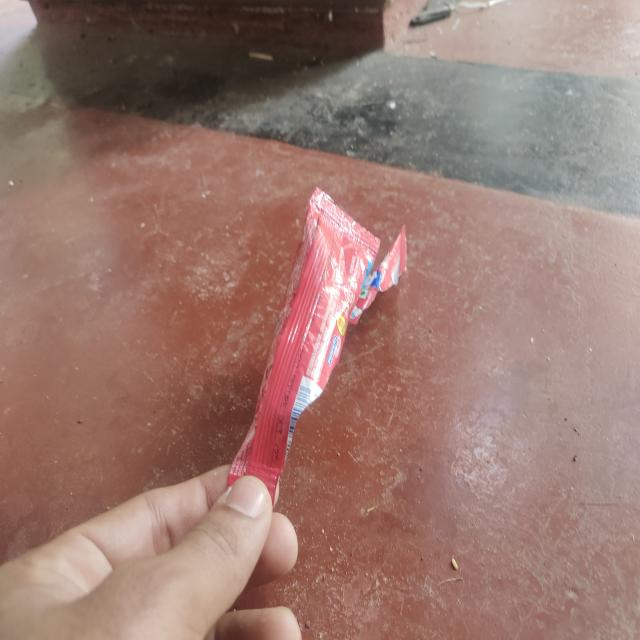plastic: (230, 188, 407, 531)
